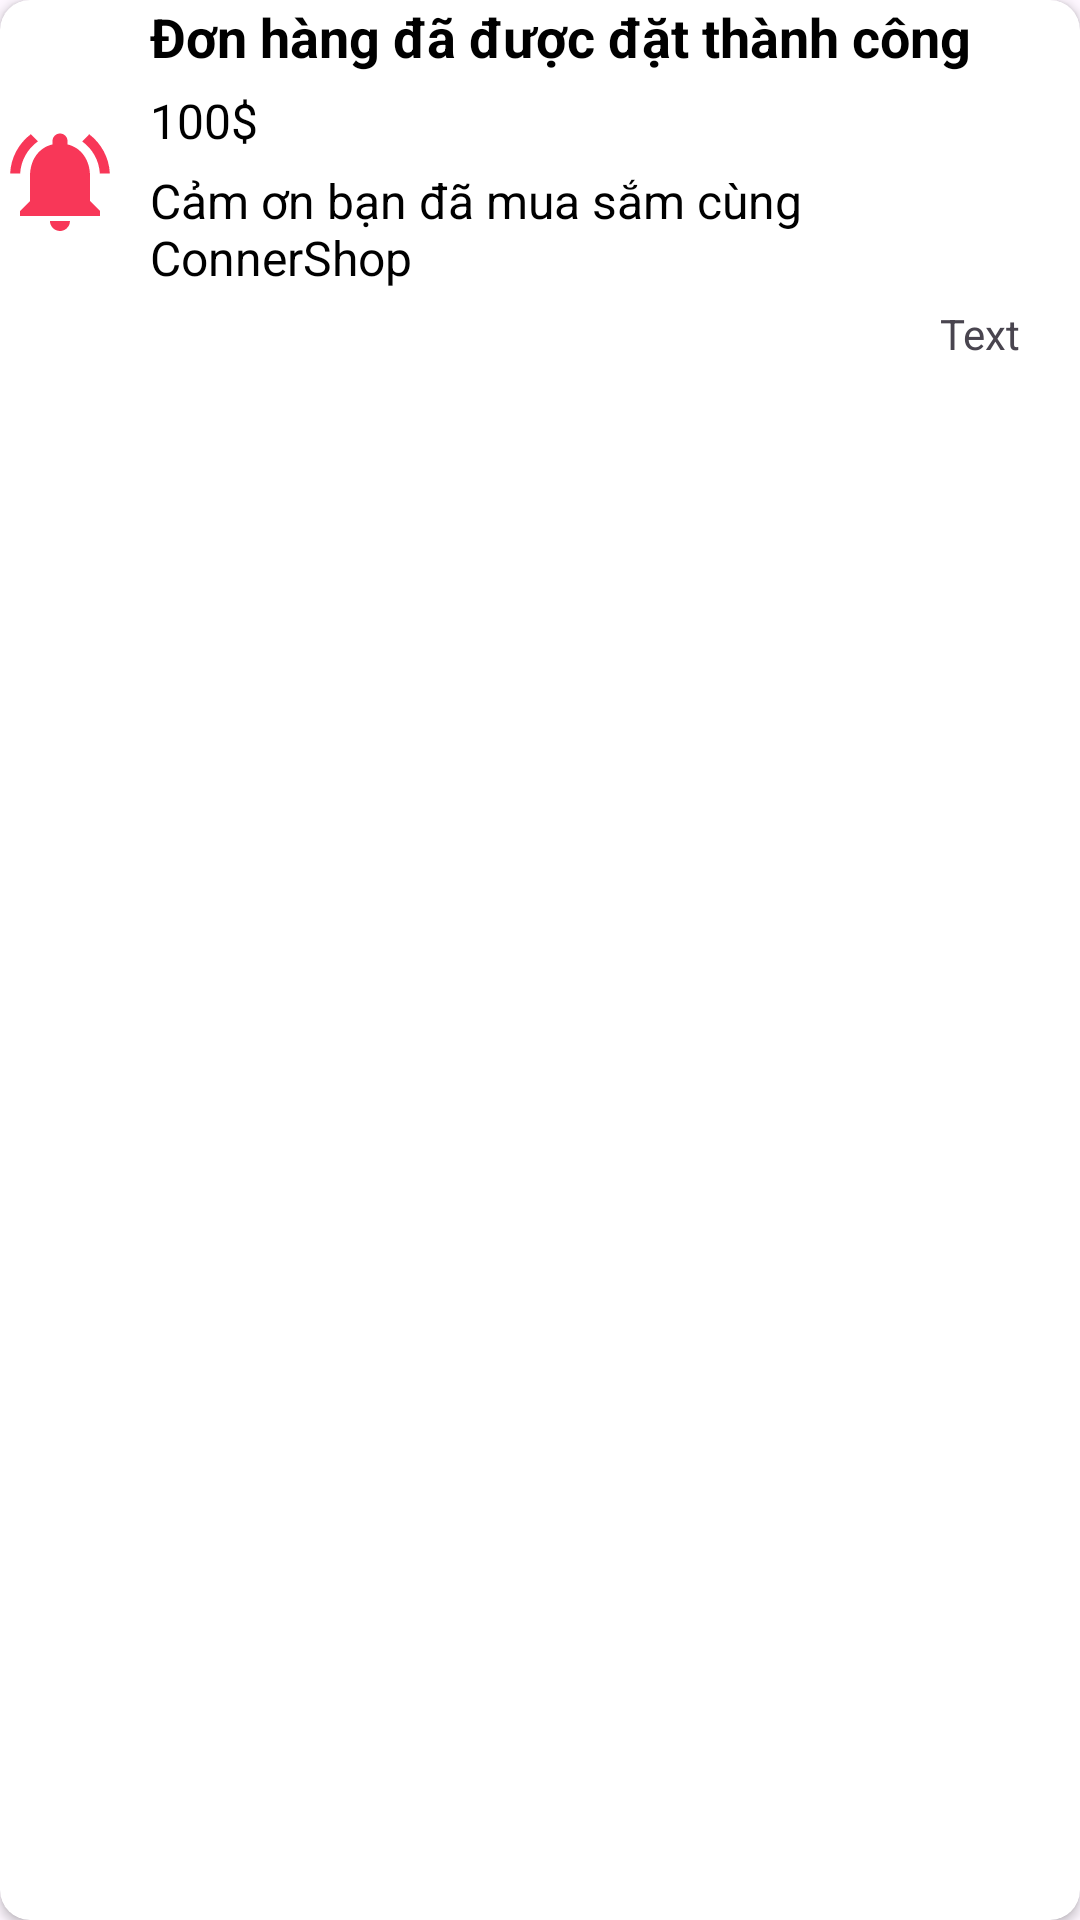

Icons on this 1080 x 1920 Android screen, each with the point to tap as point (x, y):
noti: point (60, 182)
